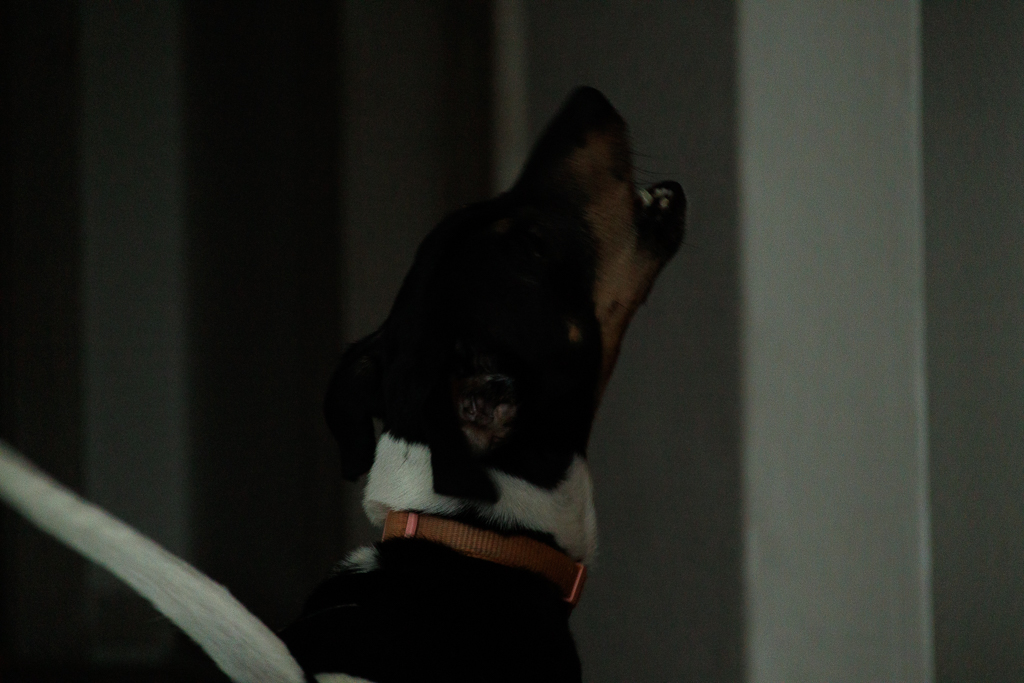Dog: (0, 68, 703, 683)
